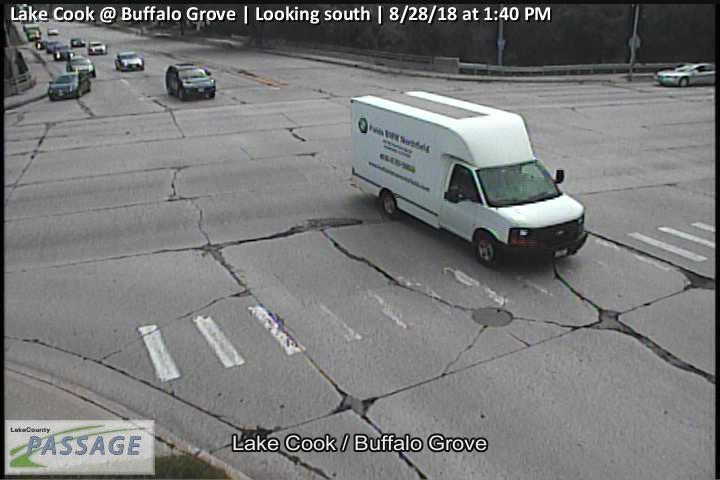SUV: (166, 64, 216, 101), (67, 56, 95, 77)
Sedan: (656, 63, 717, 86), (48, 72, 91, 100), (115, 53, 143, 70), (53, 44, 75, 61), (88, 41, 106, 55), (46, 40, 62, 53), (71, 36, 85, 46), (46, 26, 58, 36)
Truck: (350, 91, 586, 266), (24, 22, 41, 41)
